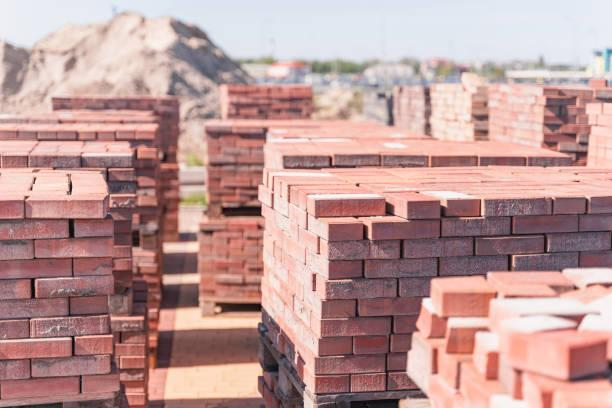Bricks: (30, 356, 106, 381), (0, 374, 76, 397), (26, 202, 104, 224), (400, 243, 477, 265), (27, 319, 106, 340), (33, 277, 110, 298), (362, 259, 439, 278), (1, 296, 67, 318), (34, 239, 110, 258), (311, 353, 385, 372), (370, 217, 440, 237), (313, 199, 390, 217), (2, 262, 74, 281), (325, 280, 401, 298), (322, 318, 390, 338), (437, 218, 512, 236), (358, 299, 422, 320), (436, 256, 509, 274), (512, 252, 576, 272), (328, 240, 401, 257), (475, 238, 540, 257), (77, 375, 126, 398), (289, 299, 319, 336), (547, 235, 611, 251), (481, 198, 552, 212), (315, 374, 354, 399), (508, 217, 575, 231), (68, 296, 106, 318), (292, 322, 317, 355), (0, 358, 33, 382), (394, 280, 435, 299), (353, 371, 386, 394), (318, 339, 352, 361), (72, 219, 113, 237), (292, 262, 317, 291), (321, 299, 359, 318), (74, 258, 118, 274), (77, 334, 114, 353), (354, 338, 392, 356), (0, 316, 30, 338), (1, 281, 30, 303), (292, 342, 315, 369), (297, 226, 319, 254), (573, 247, 611, 263), (302, 285, 323, 312), (326, 260, 361, 276), (326, 224, 363, 239), (283, 270, 302, 298), (578, 216, 611, 232), (448, 197, 479, 214), (283, 238, 303, 264), (287, 206, 308, 230), (555, 197, 588, 212), (391, 318, 420, 335), (304, 216, 327, 237), (407, 201, 440, 215), (589, 196, 611, 217), (306, 252, 324, 277), (387, 353, 409, 373), (275, 308, 295, 330), (392, 336, 417, 353), (389, 375, 415, 388)
